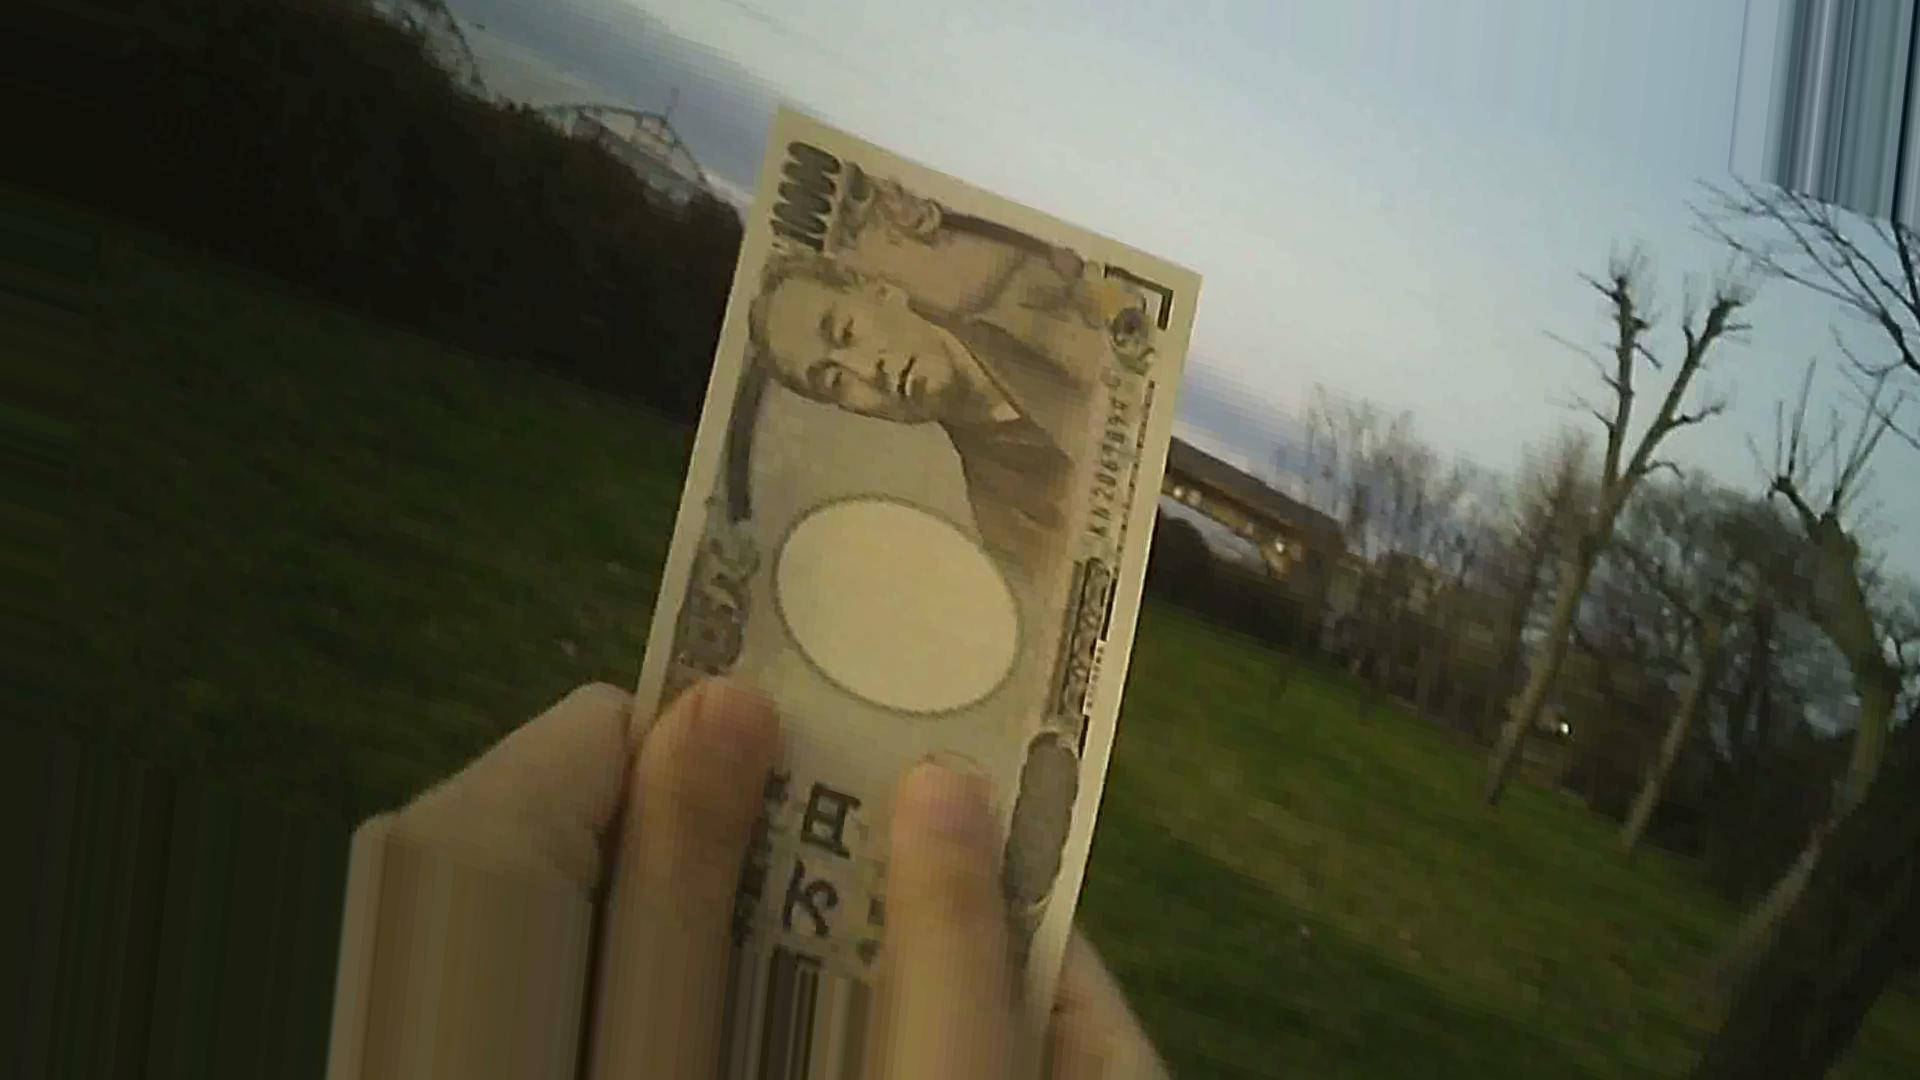10,000 Yen: (600, 79, 1207, 989)
